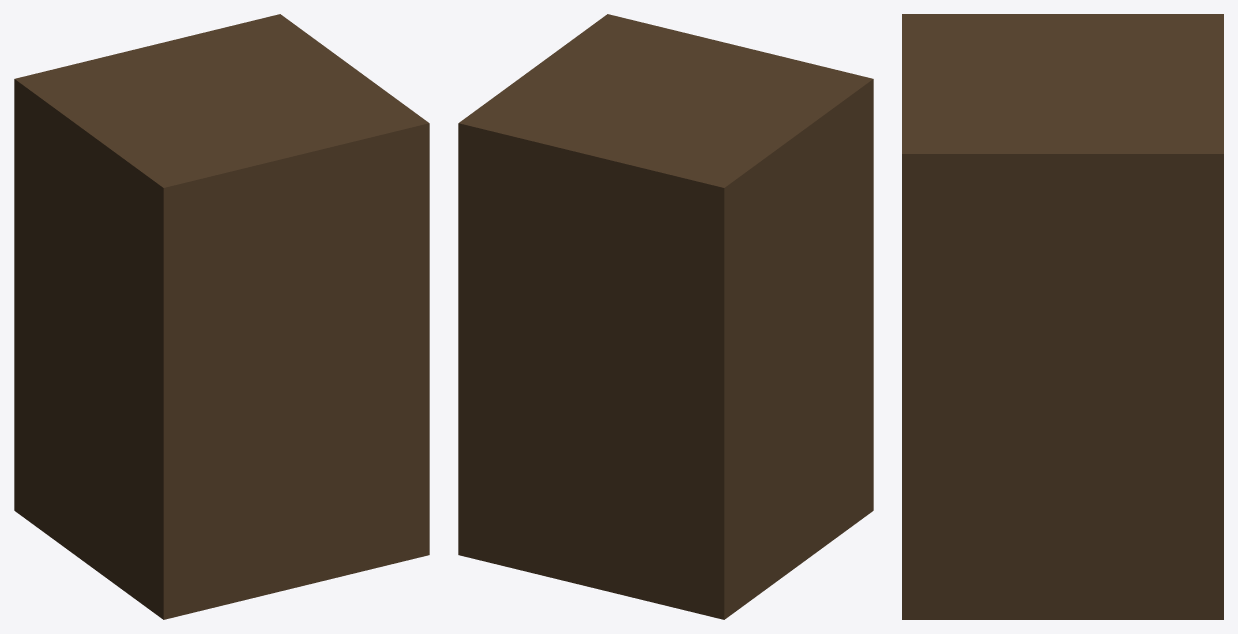
File: Itr_Obj_Smallstickynote_Box_03.FBX
The picture shows the model from 3 angles, left to right: view 1: azimuth 30°, elevation 25°; view 2: azimuth 150°, elevation 25°; view 3: azimuth 270°, elevation 25°; orthographic projection. The views are drawn at different scales.
Parts seen in each view (by area): view 1: Itr_Obj_Smallstickynote_Box_03; view 2: Itr_Obj_Smallstickynote_Box_03; view 3: Itr_Obj_Smallstickynote_Box_03.
Part boxes in pixels (<box>): Itr_Obj_Smallstickynote_Box_03: <box>14,14,429,619</box>; Itr_Obj_Smallstickynote_Box_03: <box>458,14,873,619</box>; Itr_Obj_Smallstickynote_Box_03: <box>902,14,1223,619</box>.
Size of the model in its own units: 0.8876 by 1.38 by 0.8625.
